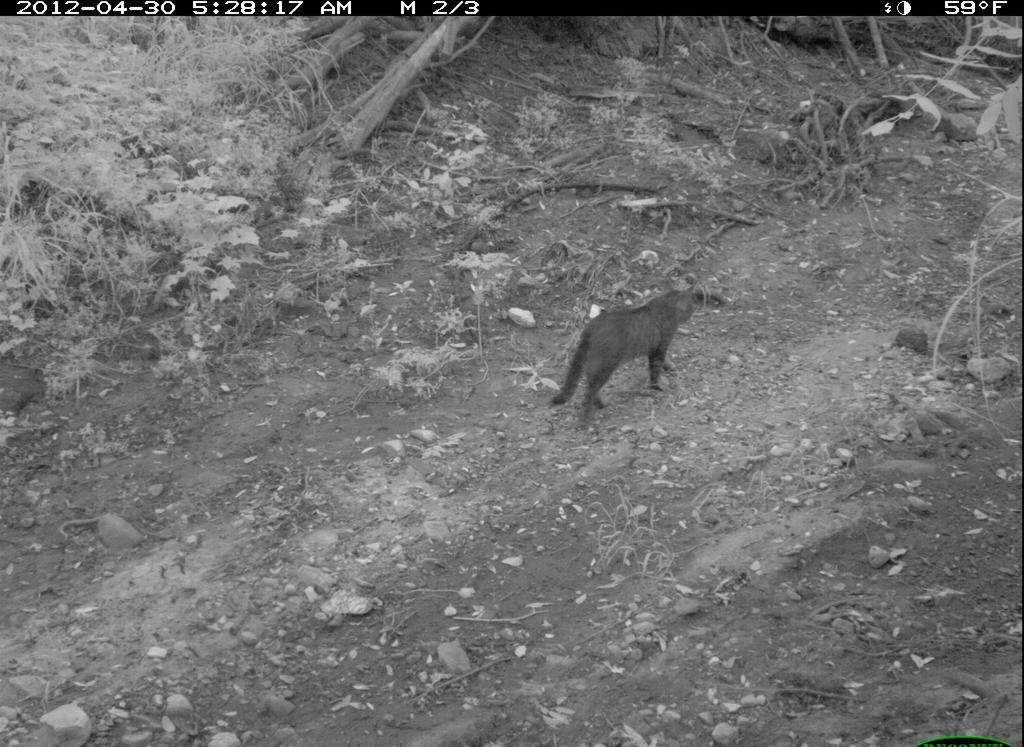cat: (543, 273, 710, 442)
